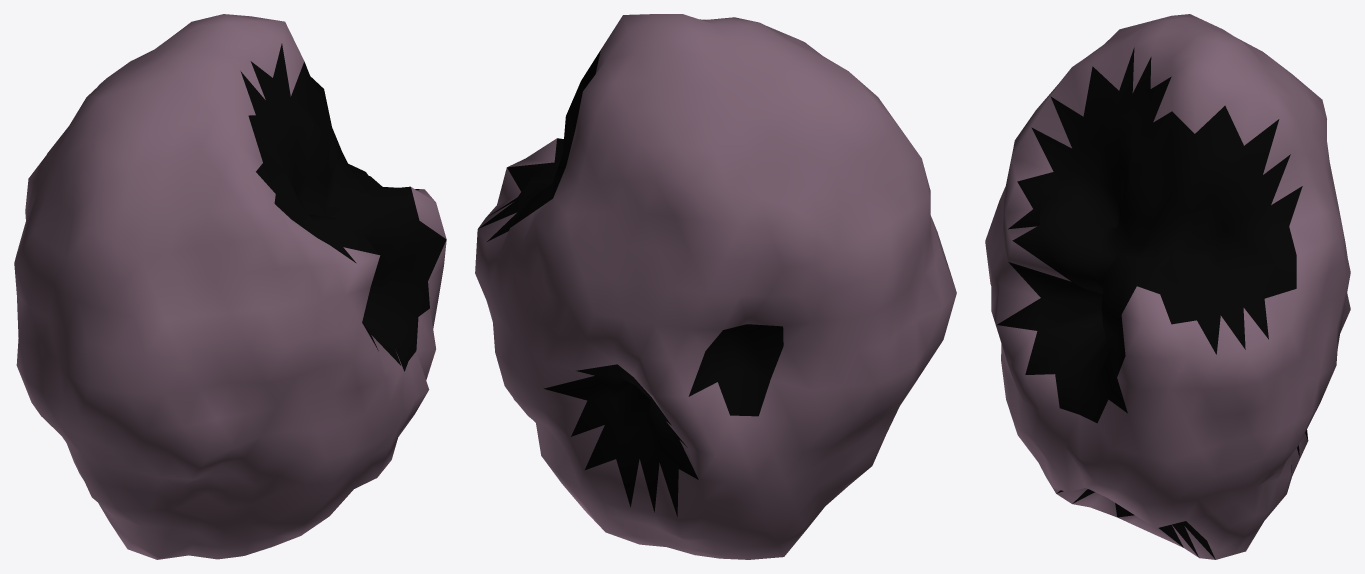
File: asteroid_med_24.glb
3 views of the same model, side by side, from view 1: azimuth 30°, elevation 25°; view 2: azimuth 150°, elevation 25°; view 3: azimuth 270°, elevation 25° (orthographic). The views are drawn at different scales.
Visible parts, largest first — view 1: asteroid_med_24; view 2: asteroid_med_24; view 3: asteroid_med_24.
Boxes of the visible parts, x1,y1,x2,y2 form: asteroid_med_24: (14, 14, 446, 559); asteroid_med_24: (475, 14, 956, 559); asteroid_med_24: (985, 14, 1350, 559).
Size of the model in its own units: 1.8 by 2.22 by 1.45.
